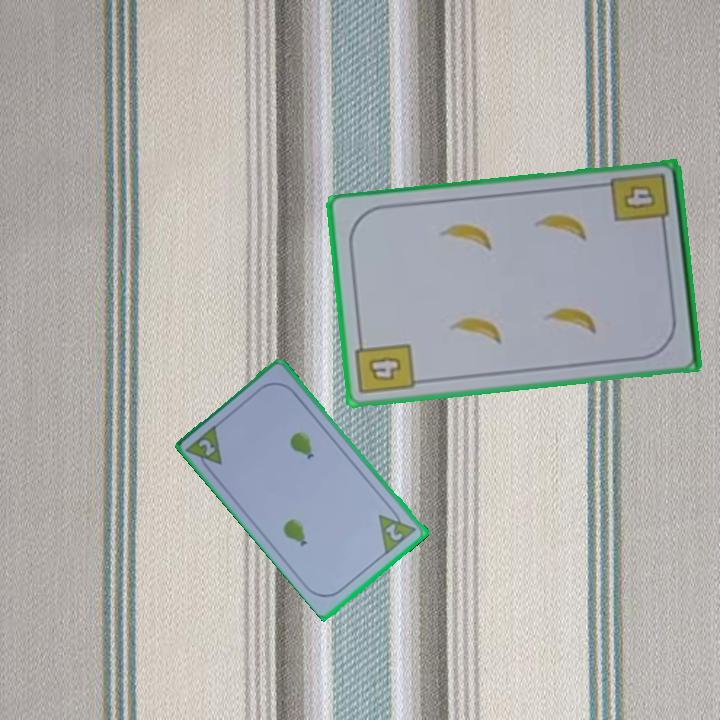2p: (183, 421, 226, 477), (382, 520, 406, 544)
4b: (608, 169, 673, 235), (352, 334, 418, 398)
